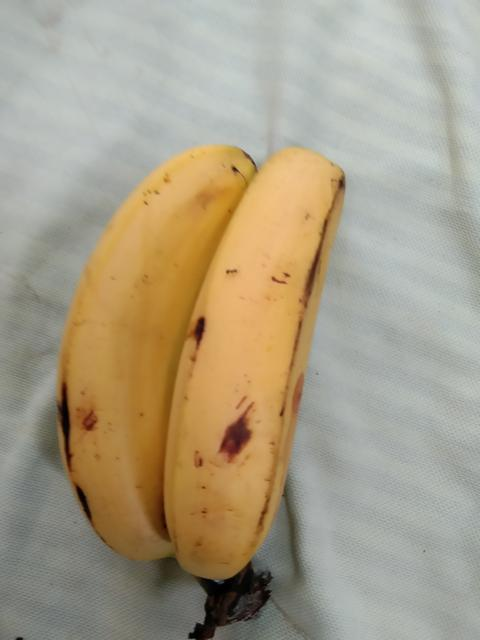ripe: (159, 146, 347, 574), (47, 137, 190, 543)
